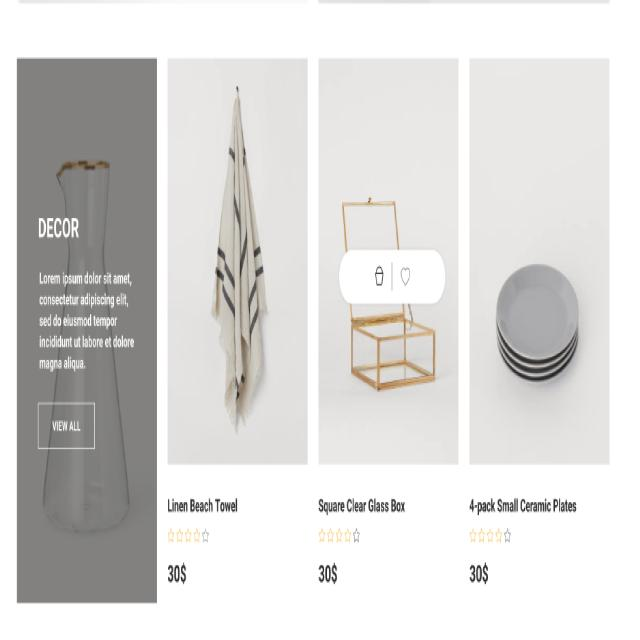CategoryTile: (17, 57, 157, 603)
ProductTile: (166, 57, 308, 604)
ProductTileName: (165, 493, 310, 524), (469, 492, 578, 516), (317, 492, 406, 518)
ProductTilePrice: (165, 555, 189, 591), (317, 557, 339, 589), (468, 561, 489, 586)
ProductTileRatings: (468, 524, 512, 547), (317, 525, 362, 546), (165, 526, 211, 545)
